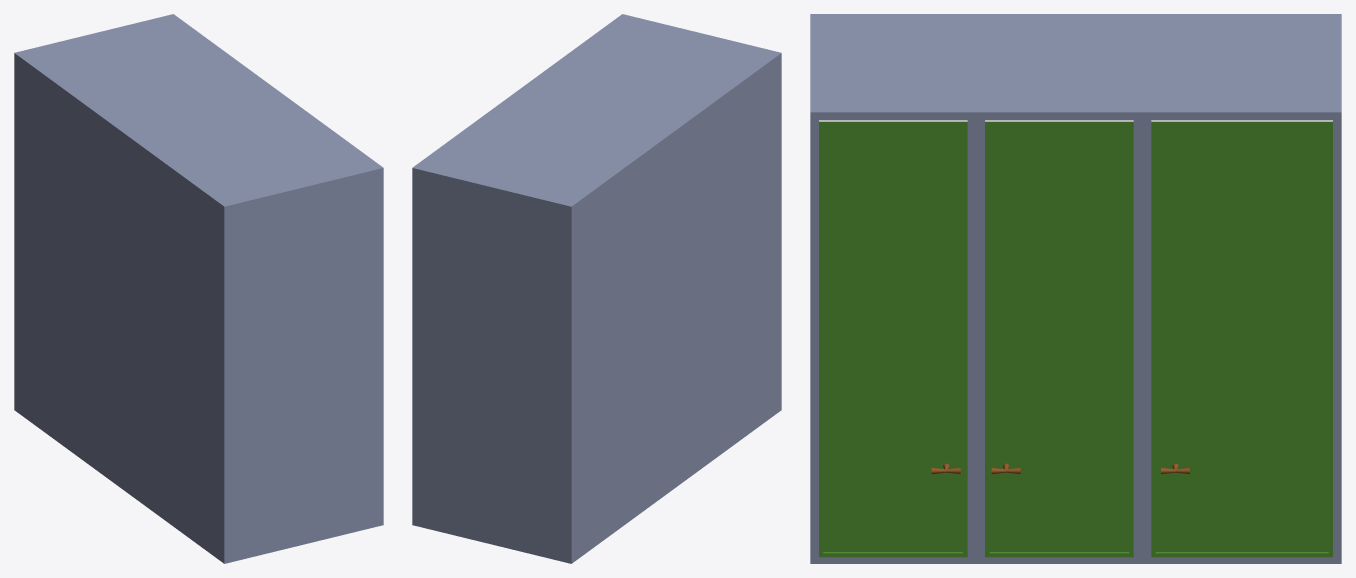
File: ArmarioCocina1.fbx
3 renders of one model, left to right at view 1: azimuth 30°, elevation 25°; view 2: azimuth 150°, elevation 25°; view 3: azimuth 270°, elevation 25°, orthographic. The views are drawn at different scales.
Visible parts, largest first — view 1: Model; view 2: Model; view 3: Model.
Part boxes in pixels (box(x1,y1,x2,y2)): Model: box(14, 14, 383, 563); Model: box(412, 14, 781, 563); Model: box(810, 14, 1341, 563).
Bounding box in the file's own units: 0.745 × 1.5 × 1.6.
